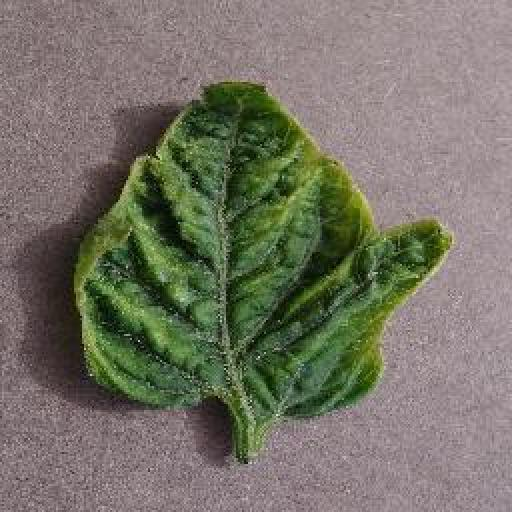disease_tomato: (72, 76, 454, 426)
